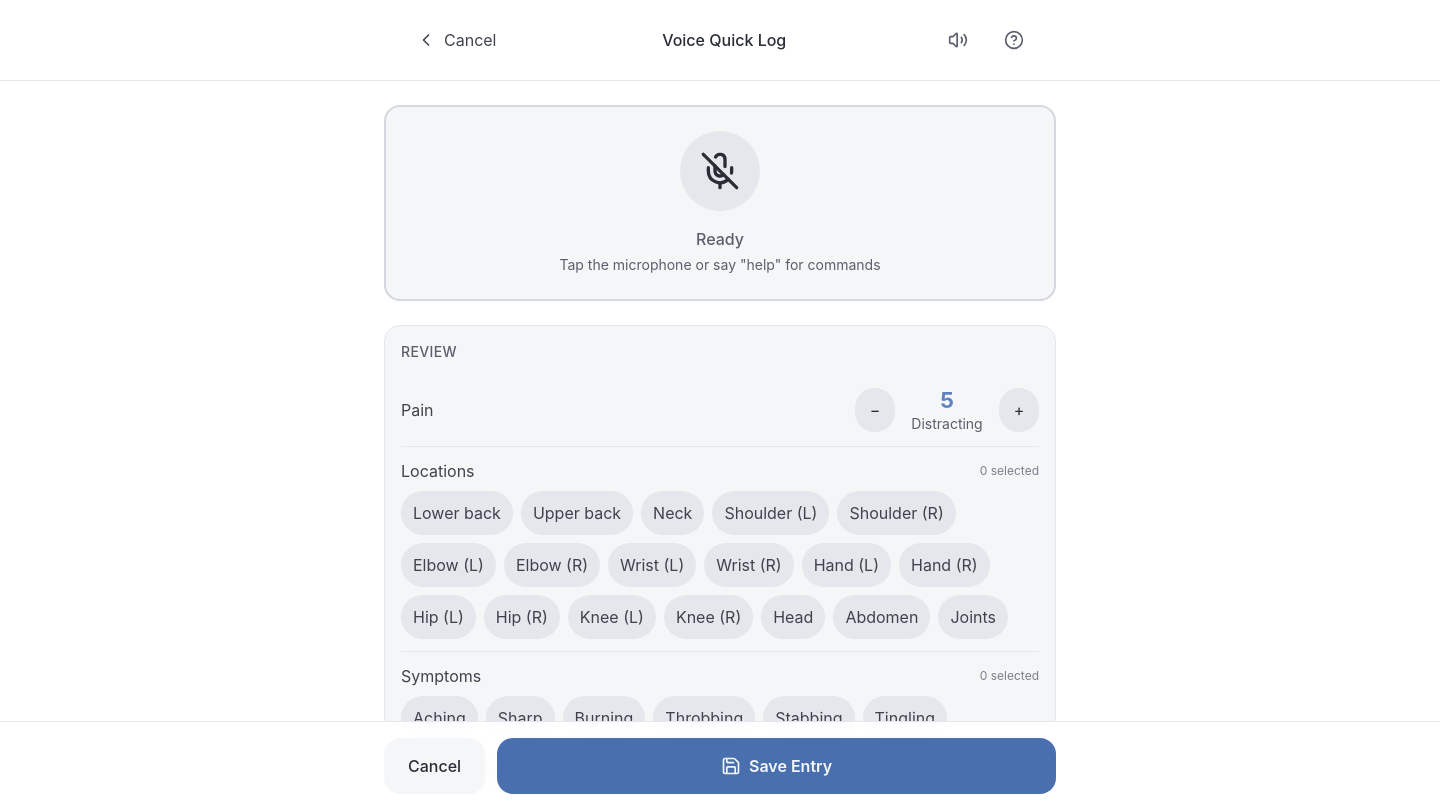
Test: VoiceFirstQuickLog › Help Panel › hides help panel when close button is clicked
What coordinates should you click on to do the following:
click the button named "Show help"
I would click on:
 (1016, 40)
Its box is [992,18,1040,62].
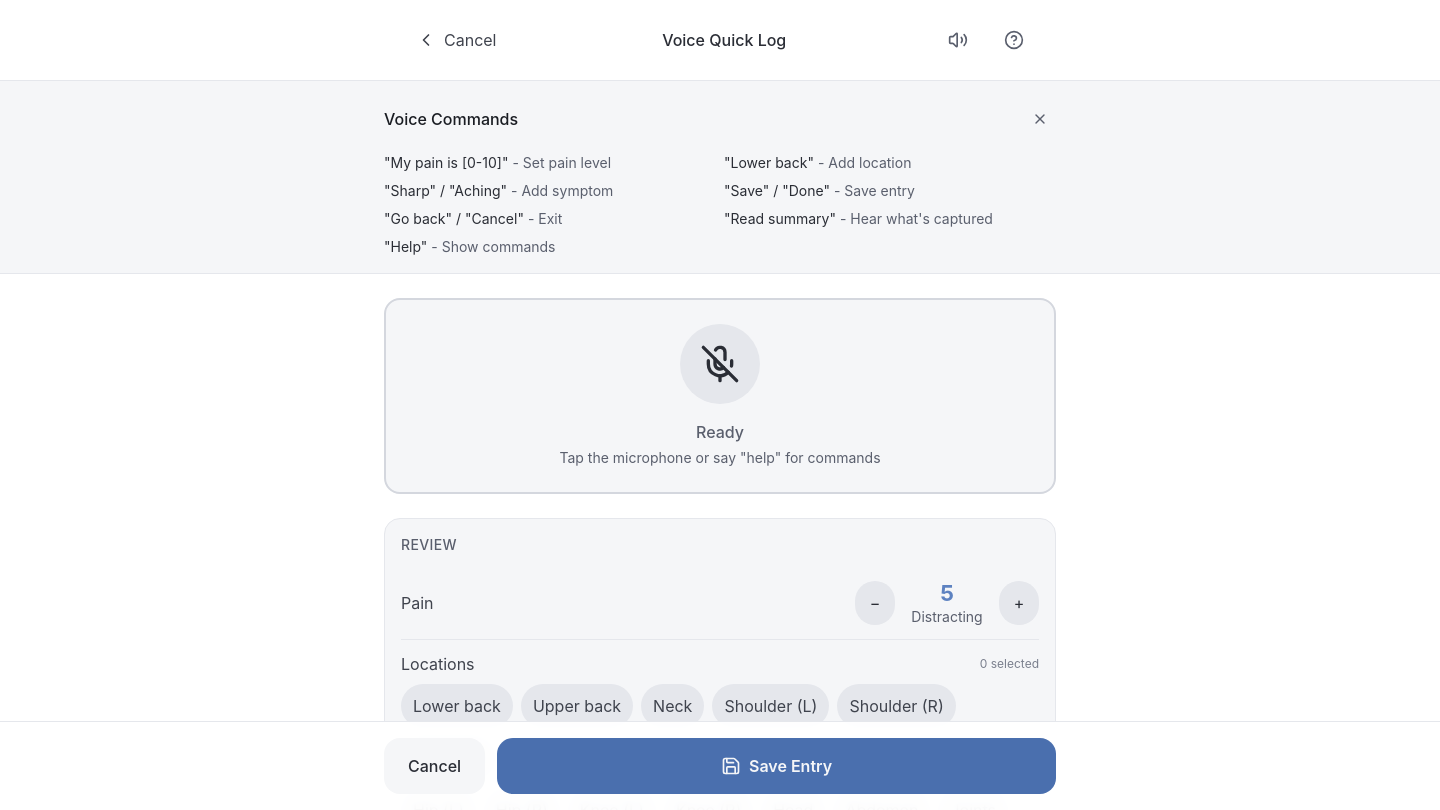
Expected: the heading "Voice Commands" is shown, [384,107,518,131]
What coordinates should you click on to do the following:
click the button named "Close help"
I would click on:
 (1040, 119)
Its box is [1024,97,1056,141].
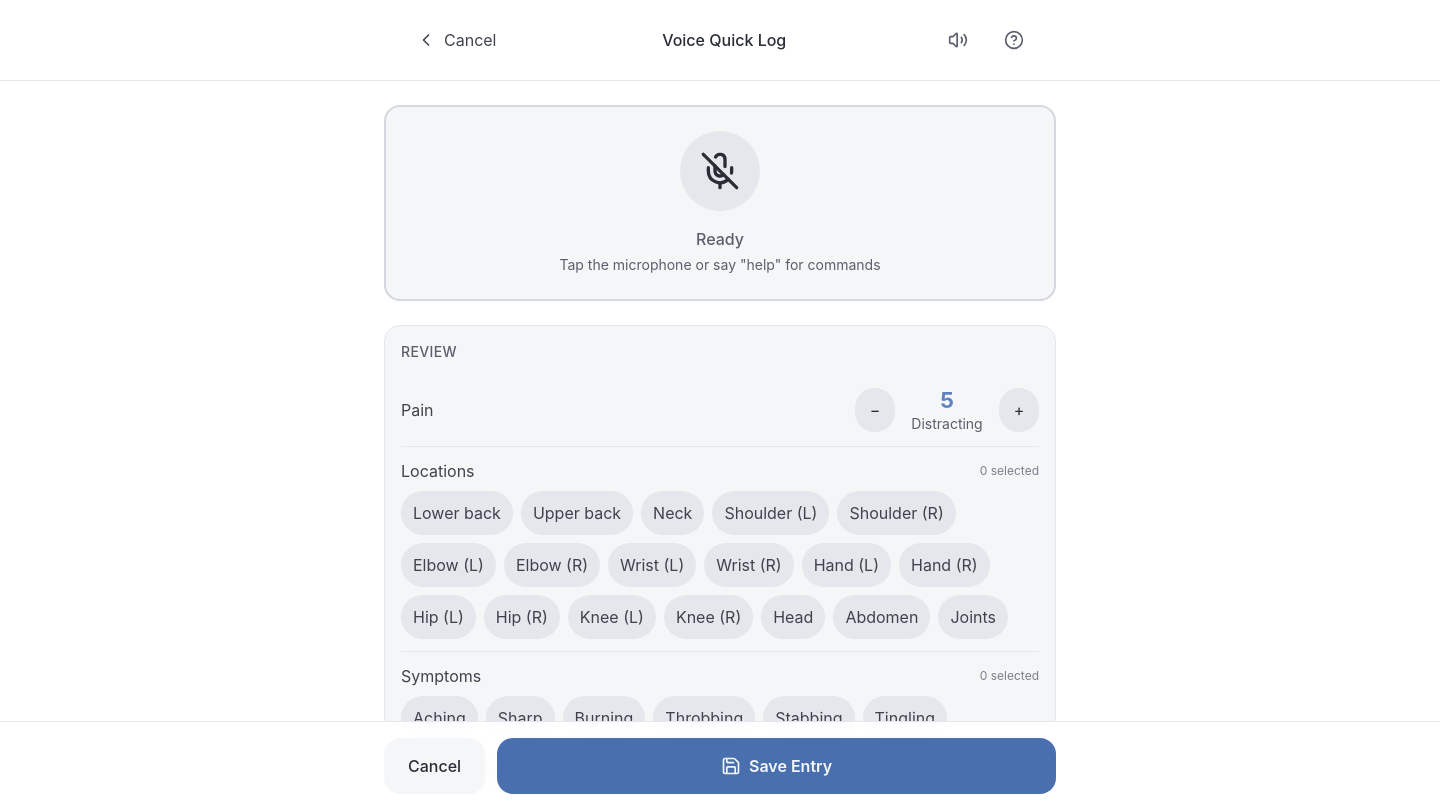
Expected: the heading "Voice Commands" is gone
